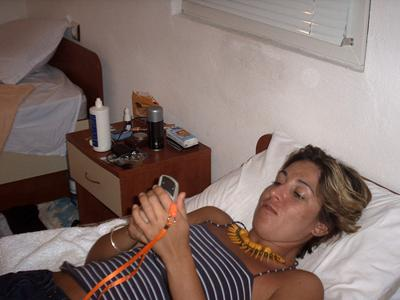person: (2, 144, 372, 300)
